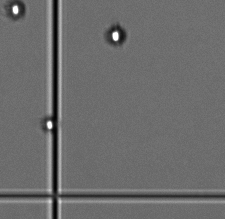Living Cell: (105, 23, 127, 46), (6, 1, 27, 21), (41, 115, 57, 133)
